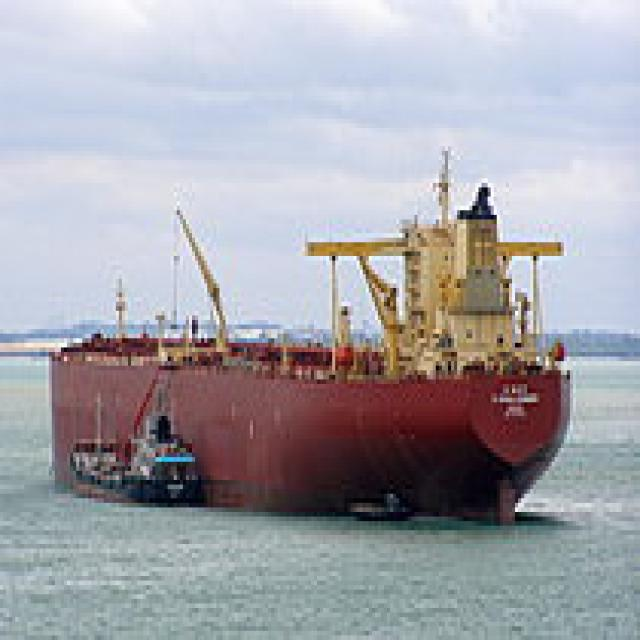Tanker: (43, 137, 570, 530)
